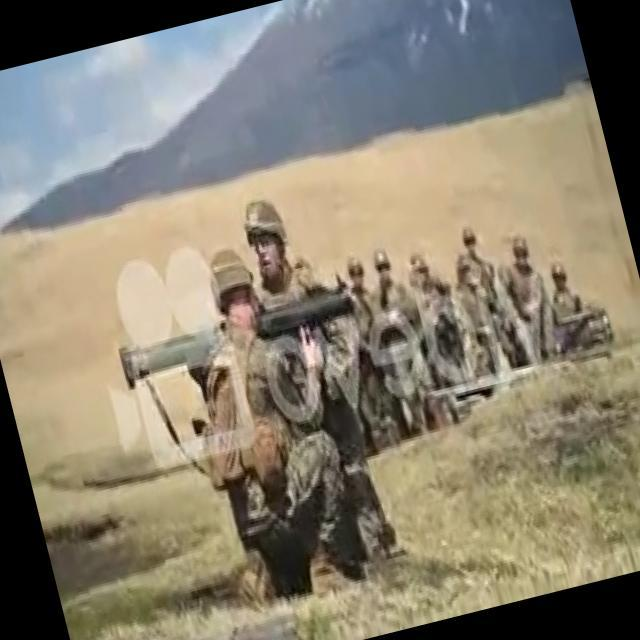rocket: (116, 278, 364, 389)
